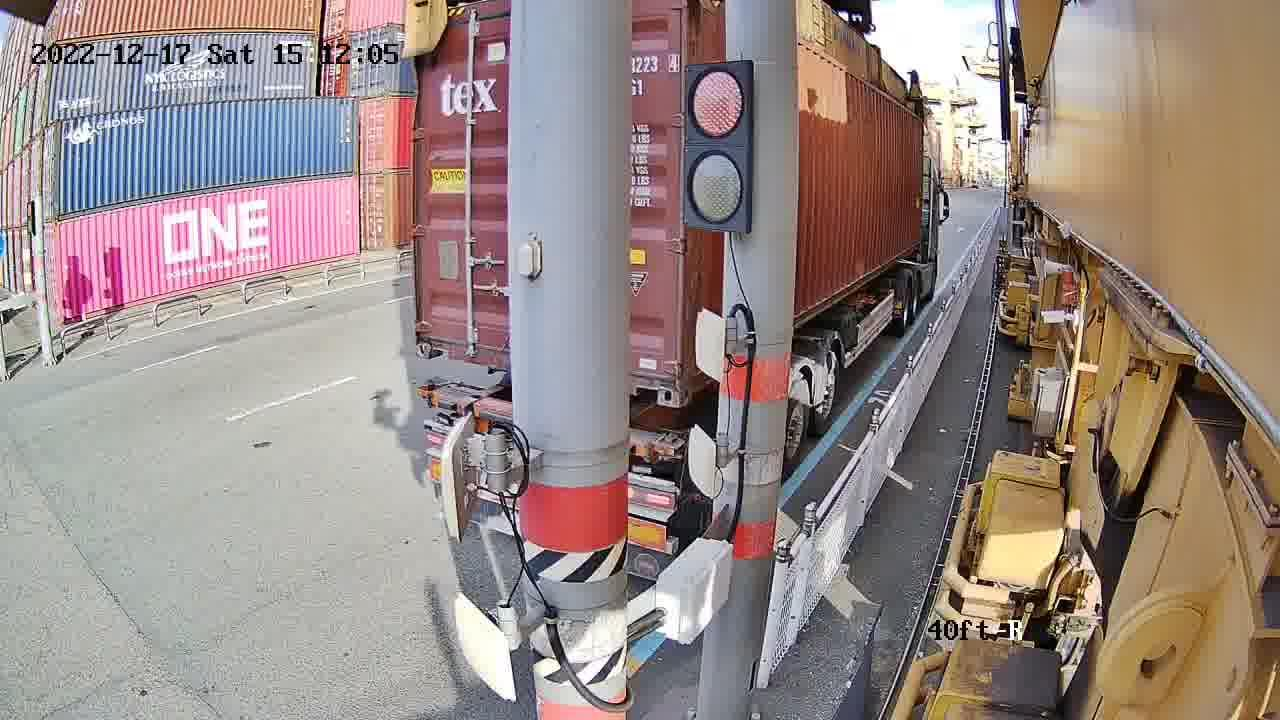Cone: (653, 431, 682, 465), (417, 377, 441, 412)
Hole_L: (416, 312, 459, 362)
Hole_R: (632, 348, 678, 405)
Tire: (783, 381, 813, 466), (820, 356, 840, 420)
